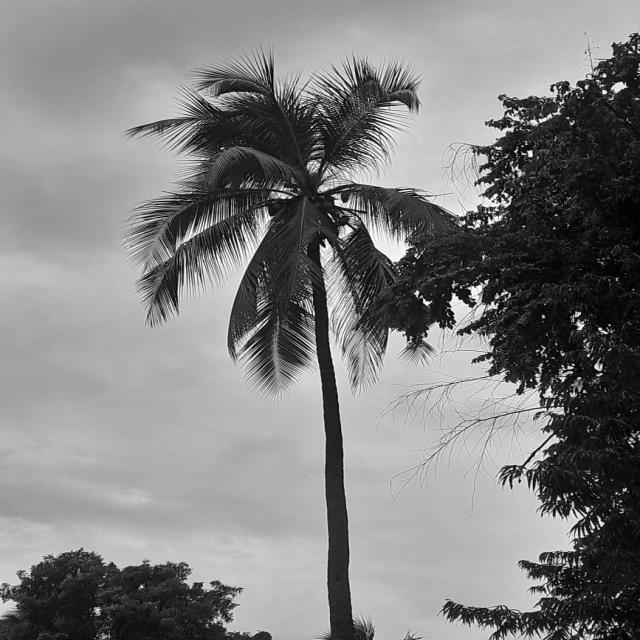Coconut-tree: (146, 79, 452, 640)
